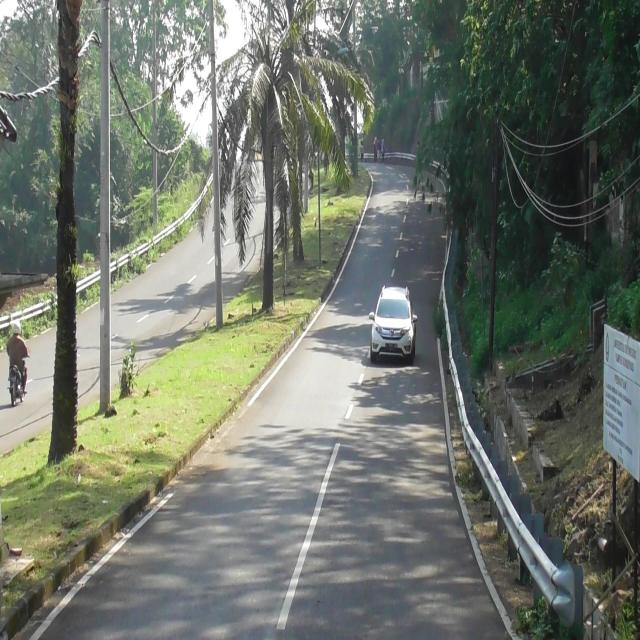motorcycle: (8, 362, 28, 408)
person: (5, 322, 30, 363)
rider_region: (5, 321, 31, 406)
